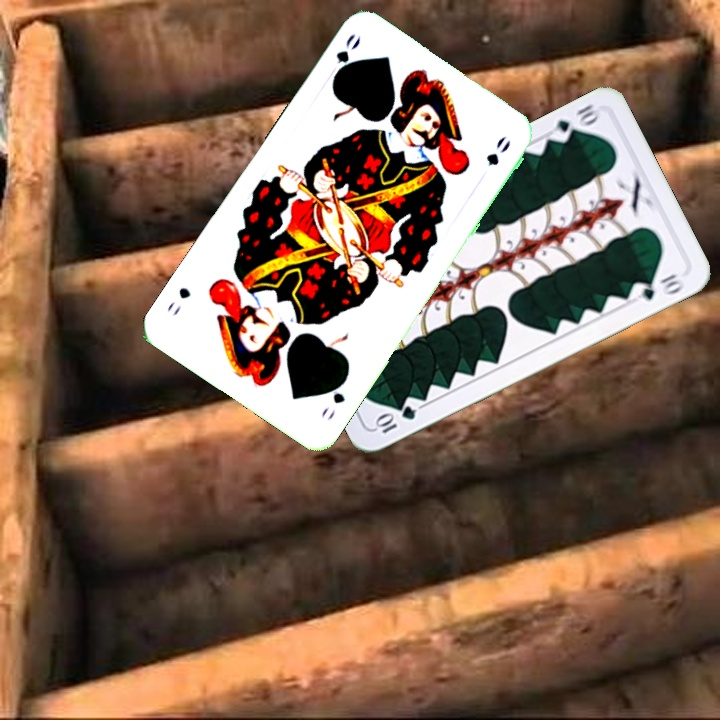G10: (546, 99, 604, 146), (371, 401, 419, 436)
GO: (327, 29, 364, 85), (317, 373, 350, 423)
